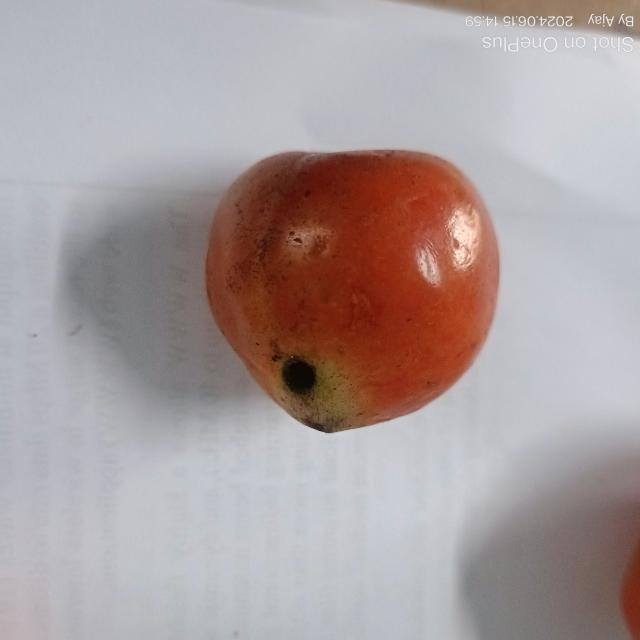fruitworm_bore: (276, 352, 322, 404)
